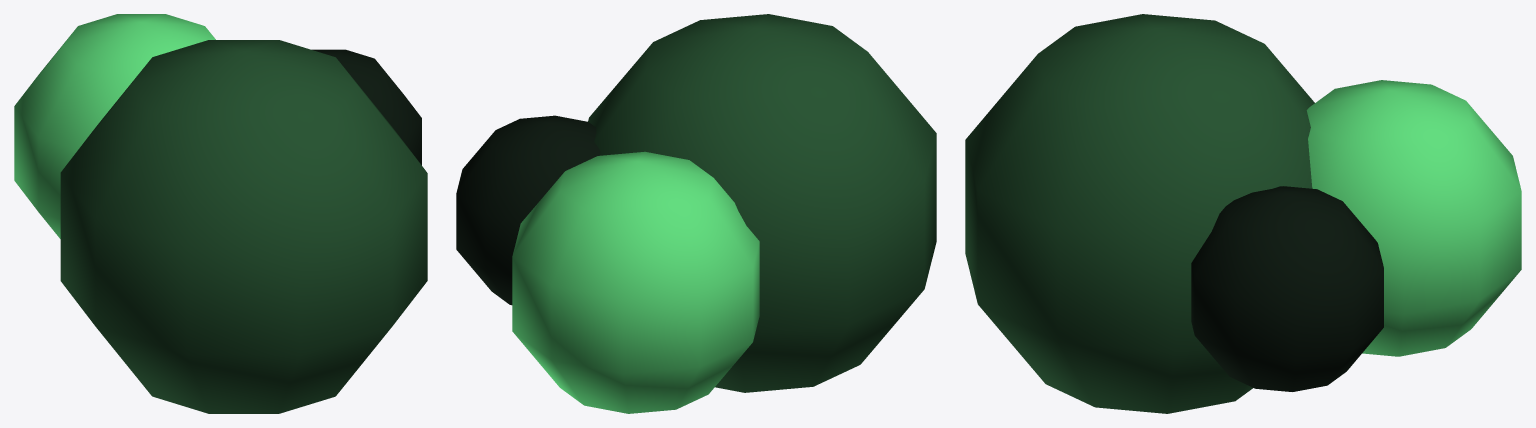
The model's file is Shrubs.FBX.
The picture shows the model from 3 angles, left to right: view 1: azimuth 30°, elevation 25°; view 2: azimuth 150°, elevation 25°; view 3: azimuth 270°, elevation 25°; orthographic projection. The views are drawn at different scales.
Visible parts, largest first — view 1: Sphere002; view 2: Sphere002; view 3: Sphere002.
Boxes of the visible parts, box(x1,y1,x2,y2) form: Sphere002: box(14, 14, 427, 413); Sphere002: box(456, 14, 936, 413); Sphere002: box(965, 14, 1521, 413).
Size of the model in its own units: 12.83 by 11.14 by 15.18.
